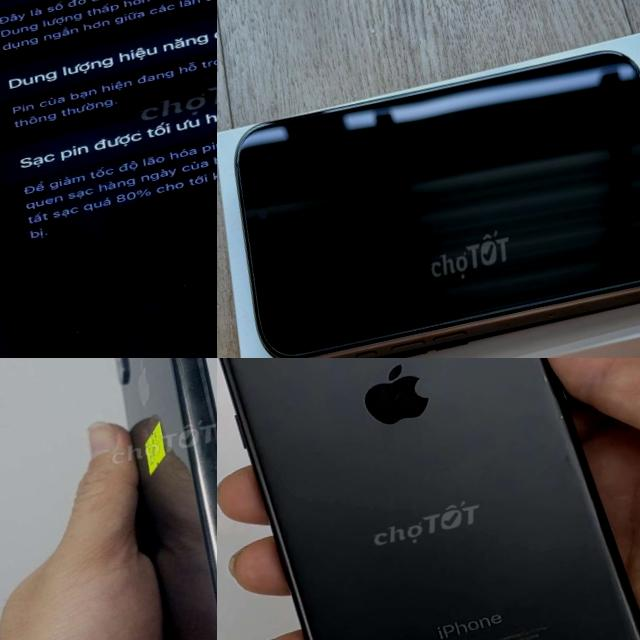scratch: (200, 536, 217, 578), (532, 358, 553, 387), (553, 407, 571, 426)
